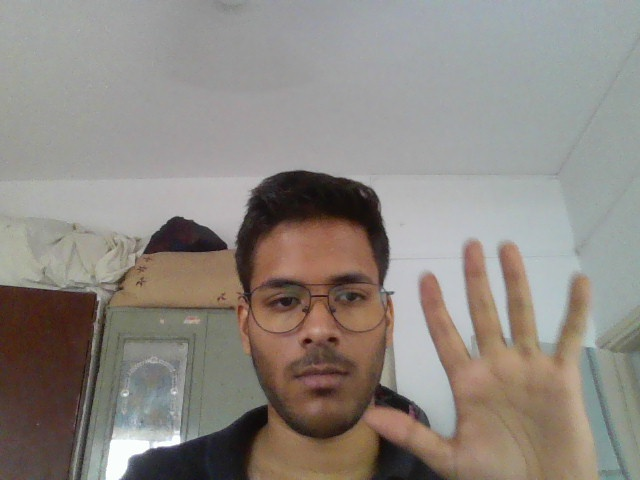hello: (350, 231, 627, 480)
